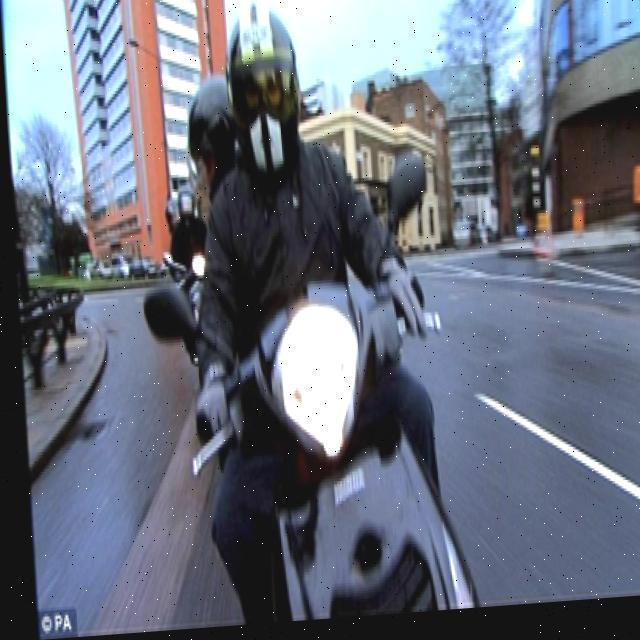Helmet: (222, 8, 303, 174), (180, 66, 243, 200)
